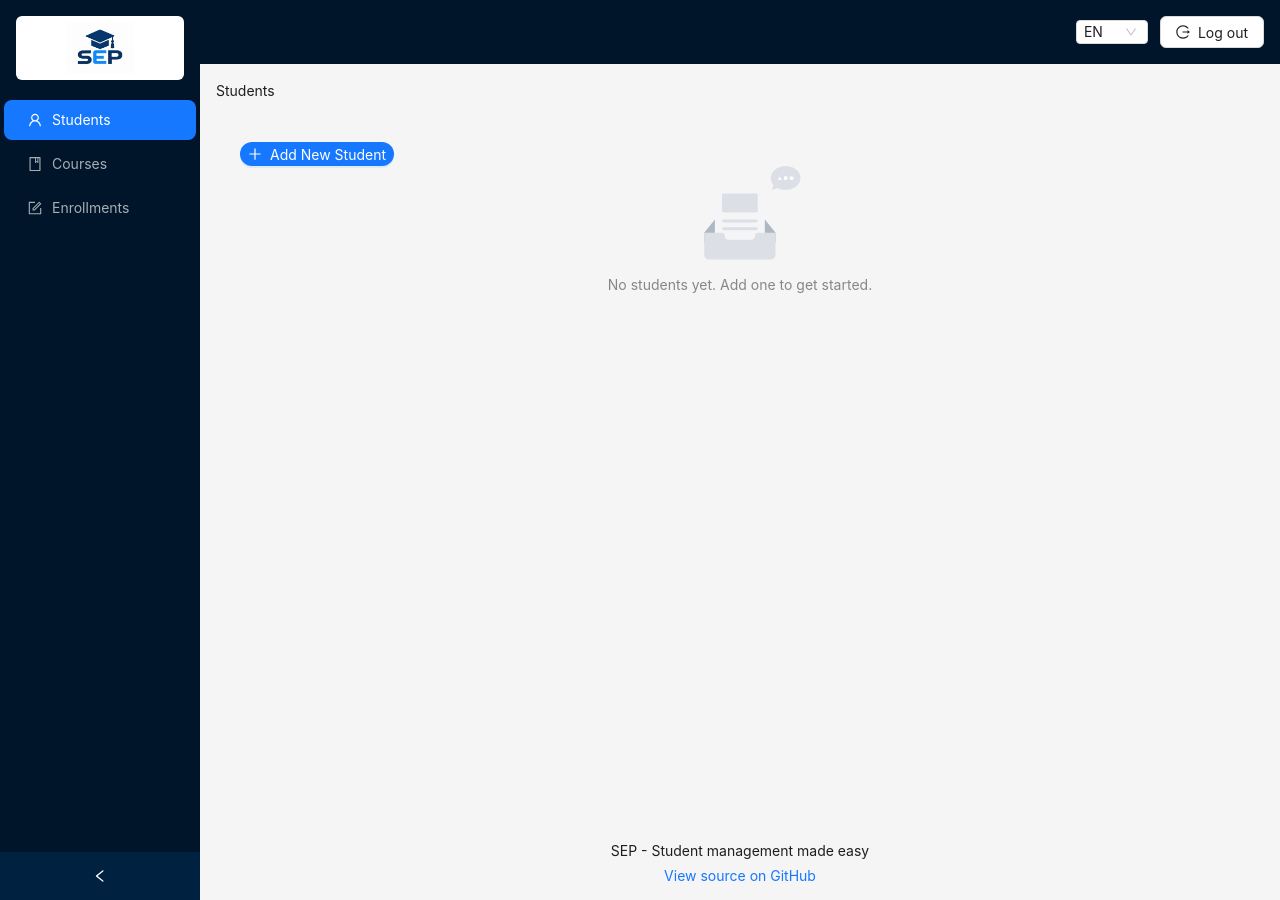
Scenario: App › switches to Courses via the sidebar and shows the courses empty state
The width and height of the screenshot is (1280, 900).
Expected: the text "Add New Student" is shown, [270,146,386,162]
Click the menu item "Courses" at (68, 164), box [28,155,107,172]
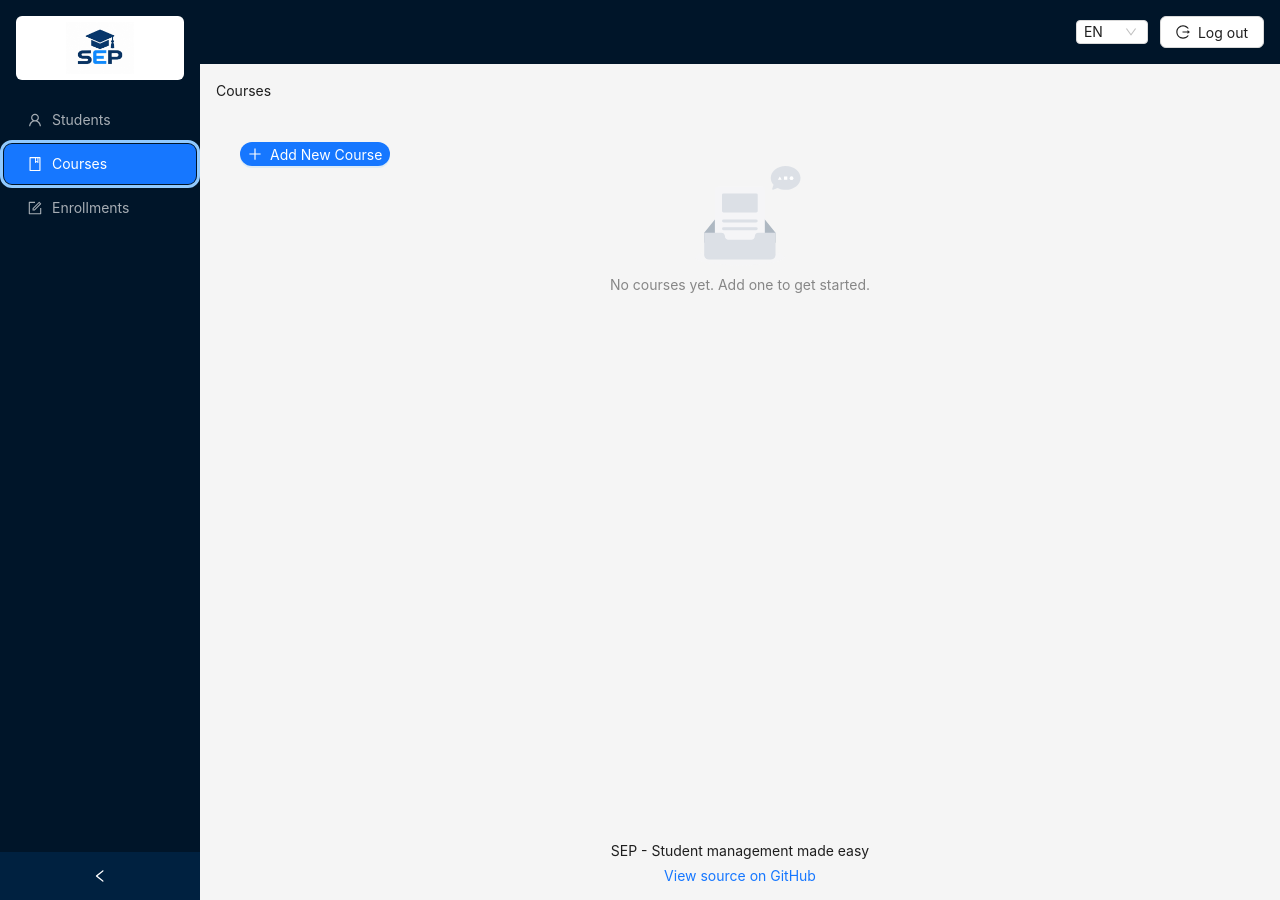
Result: the text "Add New Course" is shown at [270,146,382,162]
Result: the text "No courses yet. Add one to get started." is shown at [610,276,870,293]
Result: the navigation bar reads "Courses" at [216,82,271,99]
